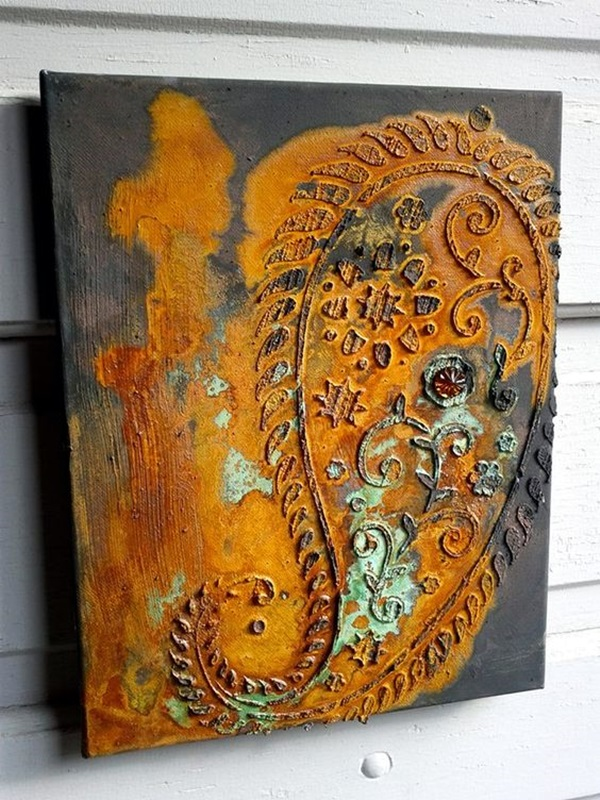rust: (96, 356, 210, 682), (153, 101, 221, 368), (331, 287, 466, 403), (438, 190, 550, 310), (262, 140, 365, 240), (437, 455, 472, 579)
